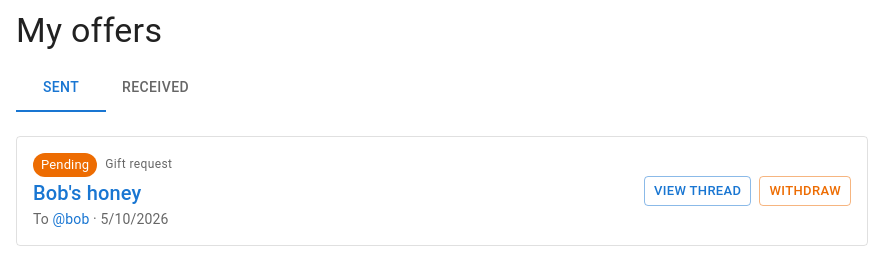
Test case: MyOffersPage › renders sent offers with status chip and a Withdraw button on PENDING
Expected: the text "Bob's honey" is shown, [33, 181, 141, 205]
Expected: the text "Pending" is shown, [41, 157, 89, 172]
Click the button "Withdraw" at x=805, y=191, box [760, 176, 851, 206]
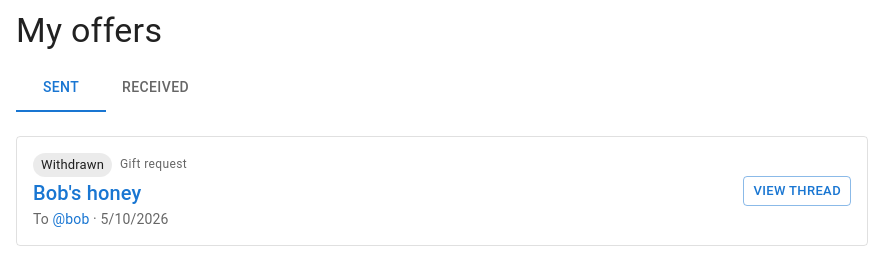
Result: the text "Withdrawn" is shown at [41, 157, 104, 172]
